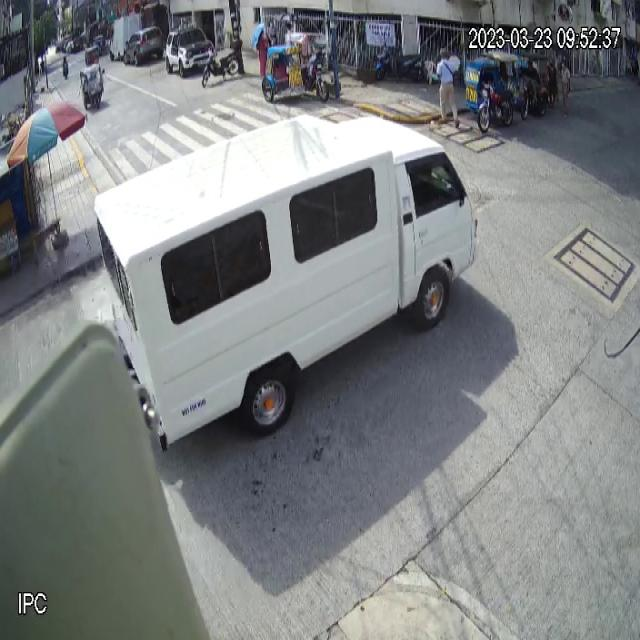Tricycle: (261, 31, 330, 105), (465, 48, 521, 132)
Van: (93, 112, 480, 450)
